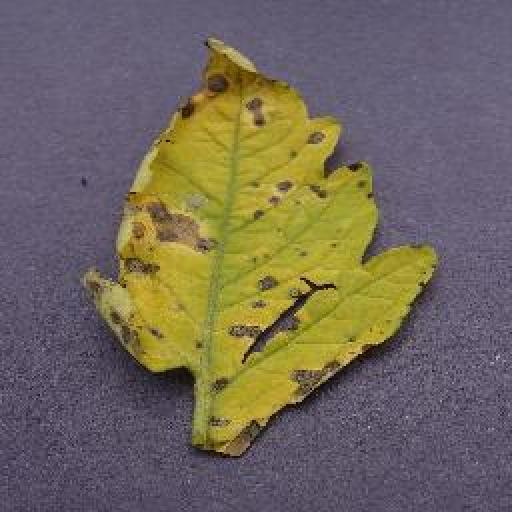disease_tomato: (84, 38, 436, 458)
